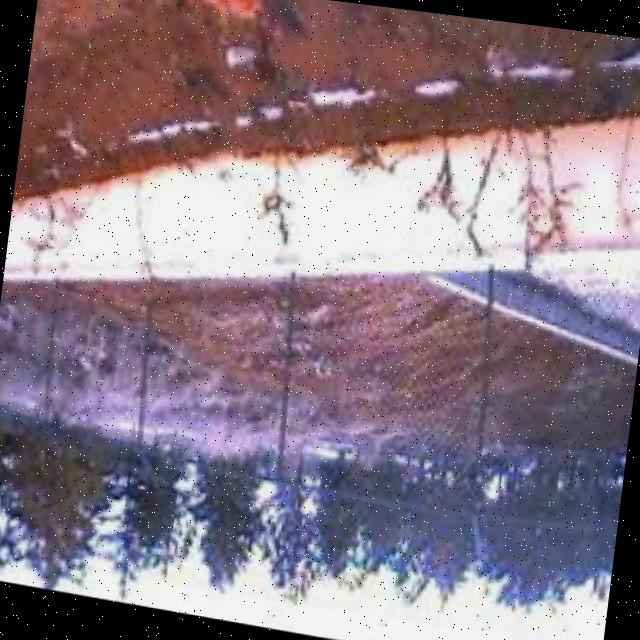fire: (138, 0, 293, 47)
